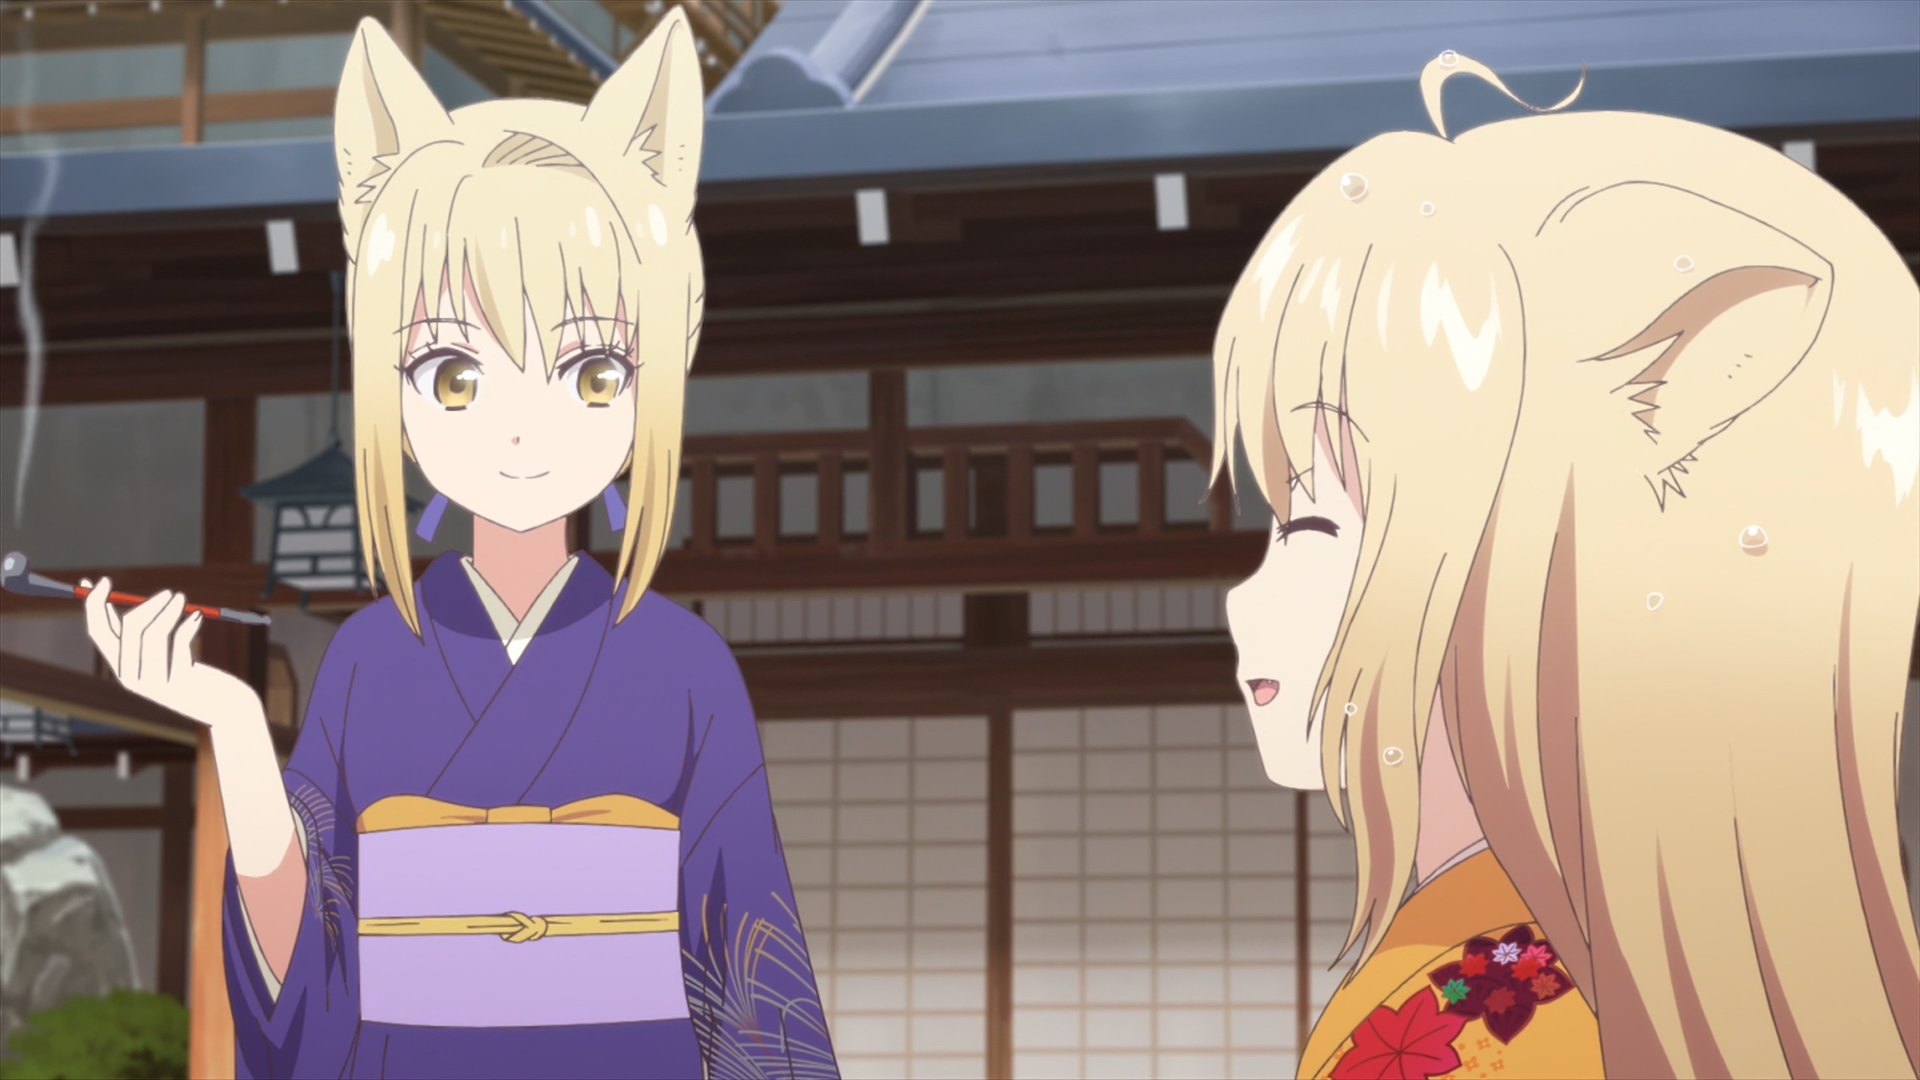柚: (1196, 50, 1920, 1080)
桐: (80, 5, 837, 1080)
